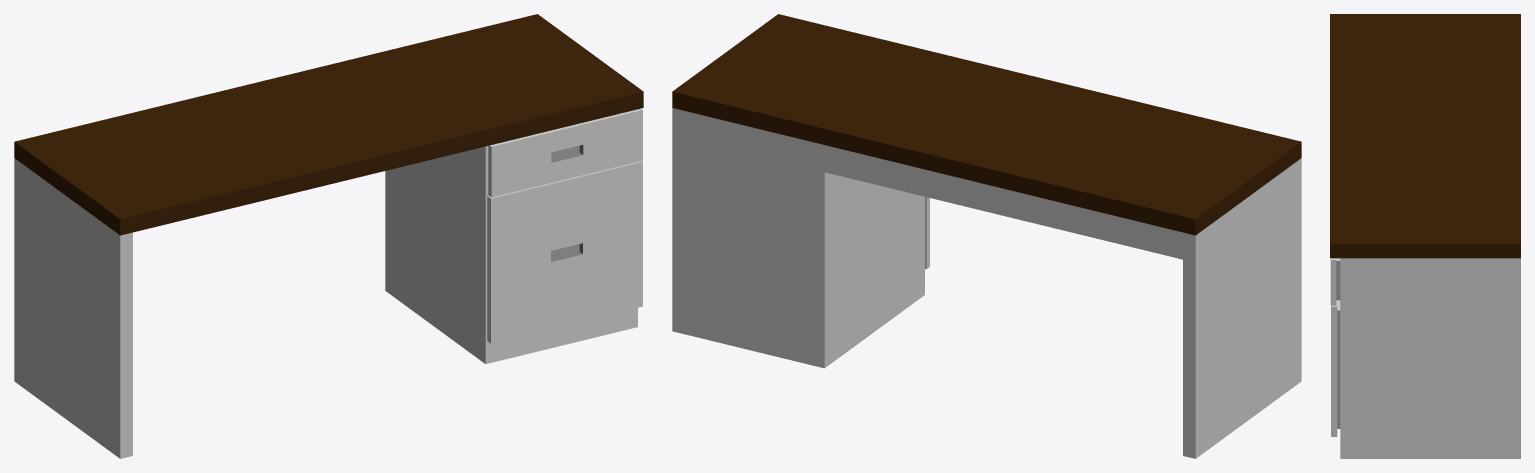
Rendered from desk_01.glb.
3 views of the same model, side by side, from view 1: azimuth 30°, elevation 25°; view 2: azimuth 150°, elevation 25°; view 3: azimuth 270°, elevation 25° (orthographic). The views are drawn at different scales.
Parts seen in each view (by area): view 1: Cube.001; view 2: Cube.001; view 3: Cube.001.
Boxes of the visible parts, x1,y1,x2,y2 form: Cube.001: (14,14,643,458); Cube.001: (672,14,1301,458); Cube.001: (1330,14,1520,458).
Bounding box in the file's own units: 1.7 × 0.7453 × 0.5983.
Materials: 1 (1 with a texture image).
